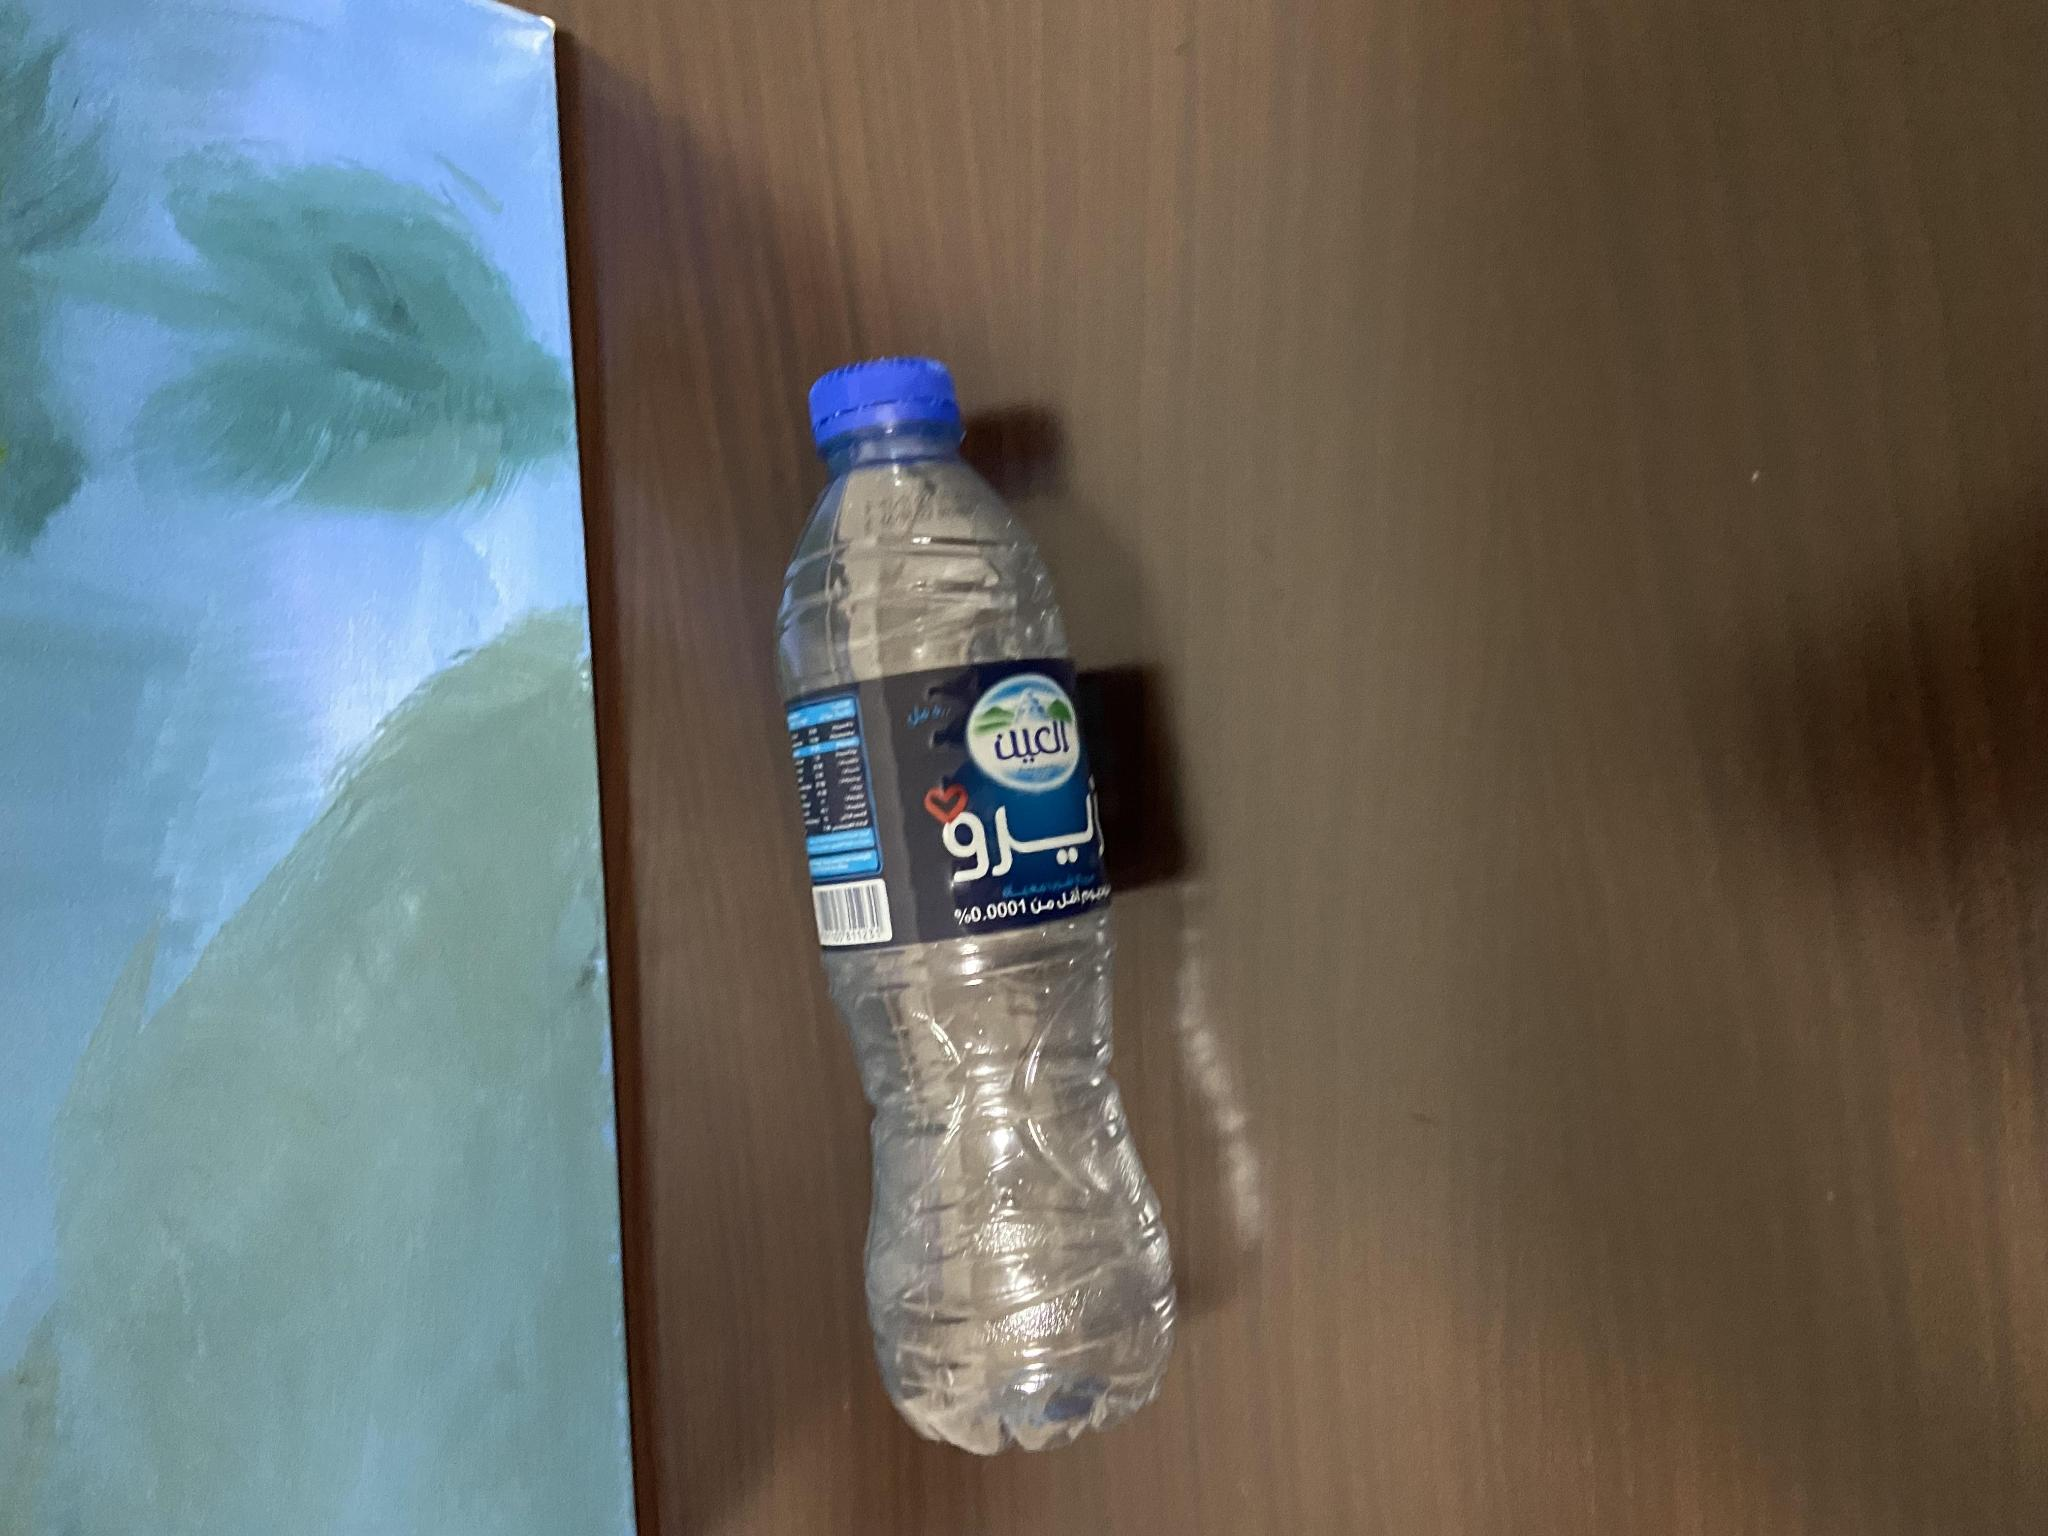bottle: (111, 584, 1587, 949)
